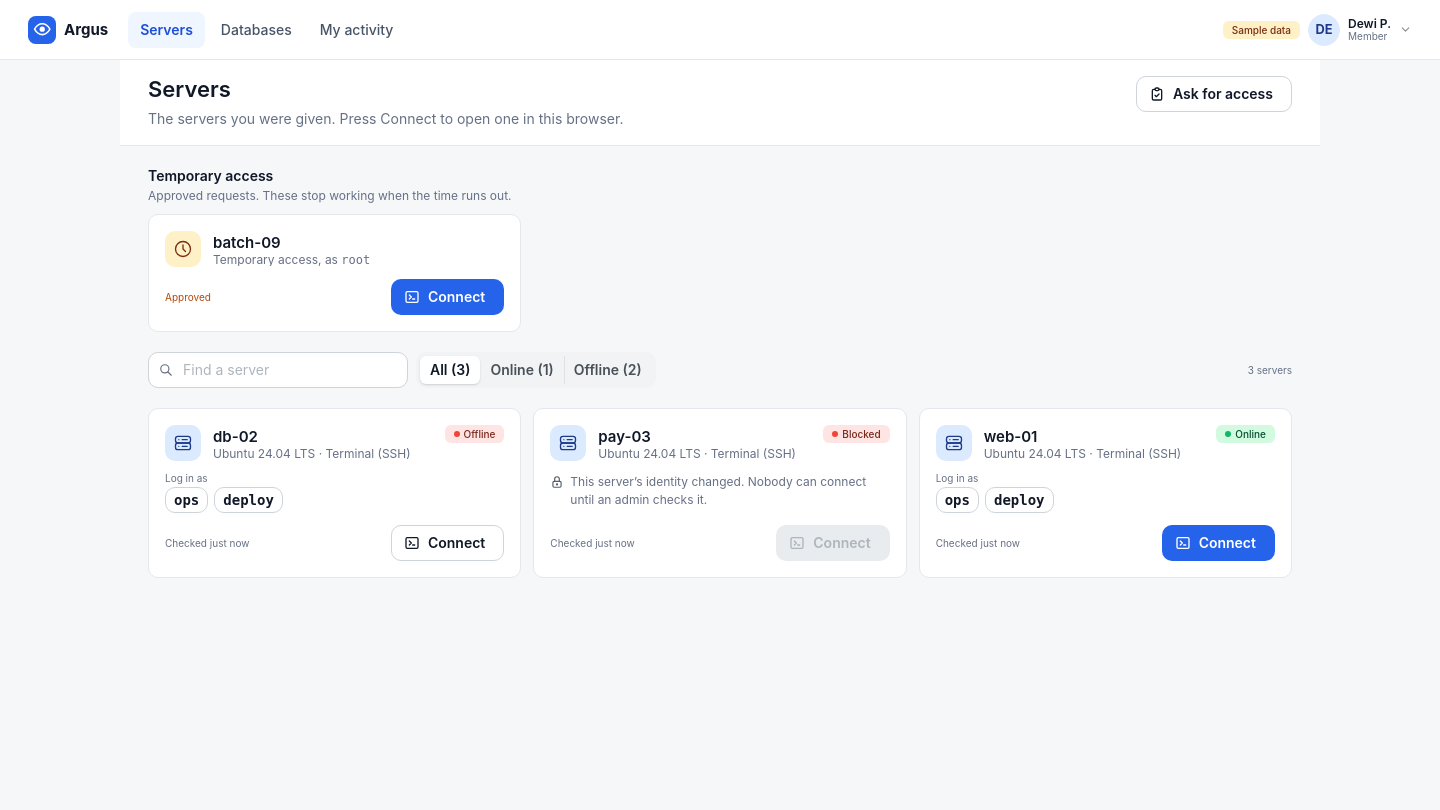
Scenario: asking for more › shows an operator their own requests, without buttons they cannot use
The image size is (1440, 810).
Click the link "Ask for access" at (1214, 94), box [1136,76,1292,112]
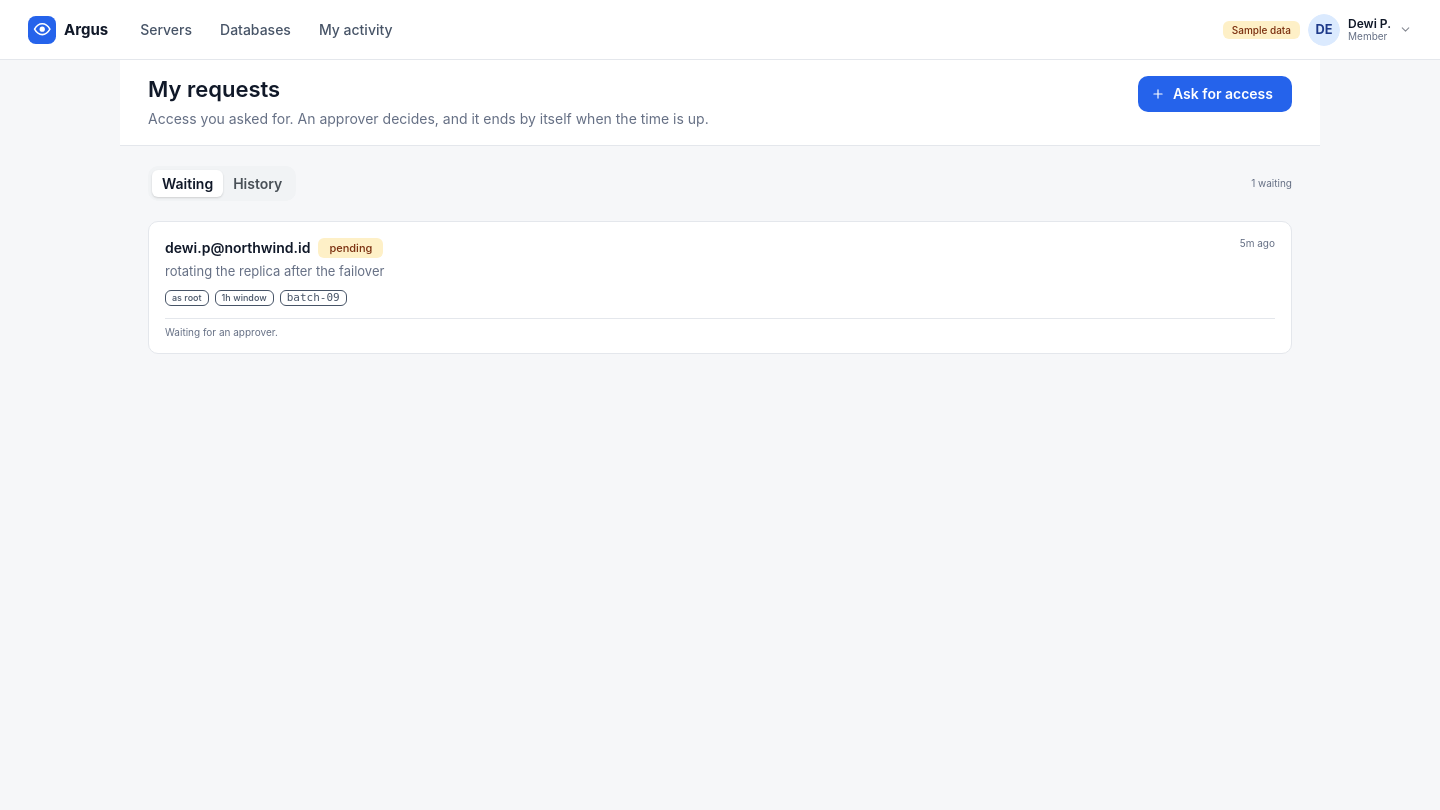
Expected: the heading "My requests" is shown, [148,76,280,104]
Expected: the text "Waiting for an approver." is shown, [165,326,278,338]
